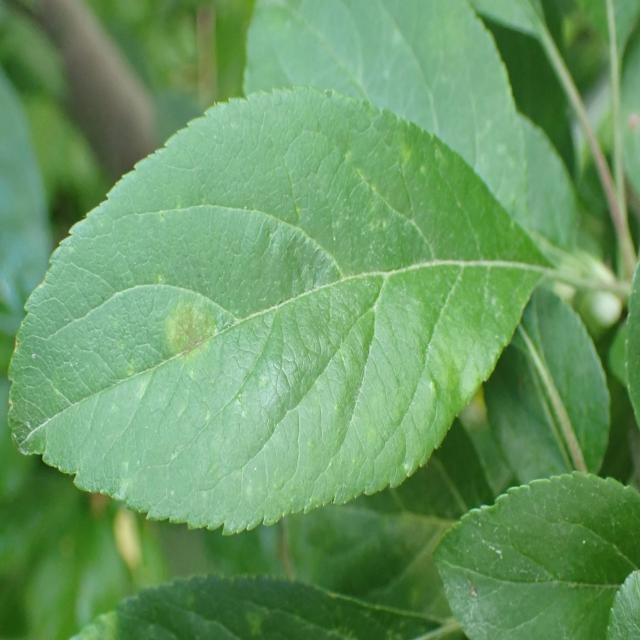scab: (47, 210, 461, 454)
